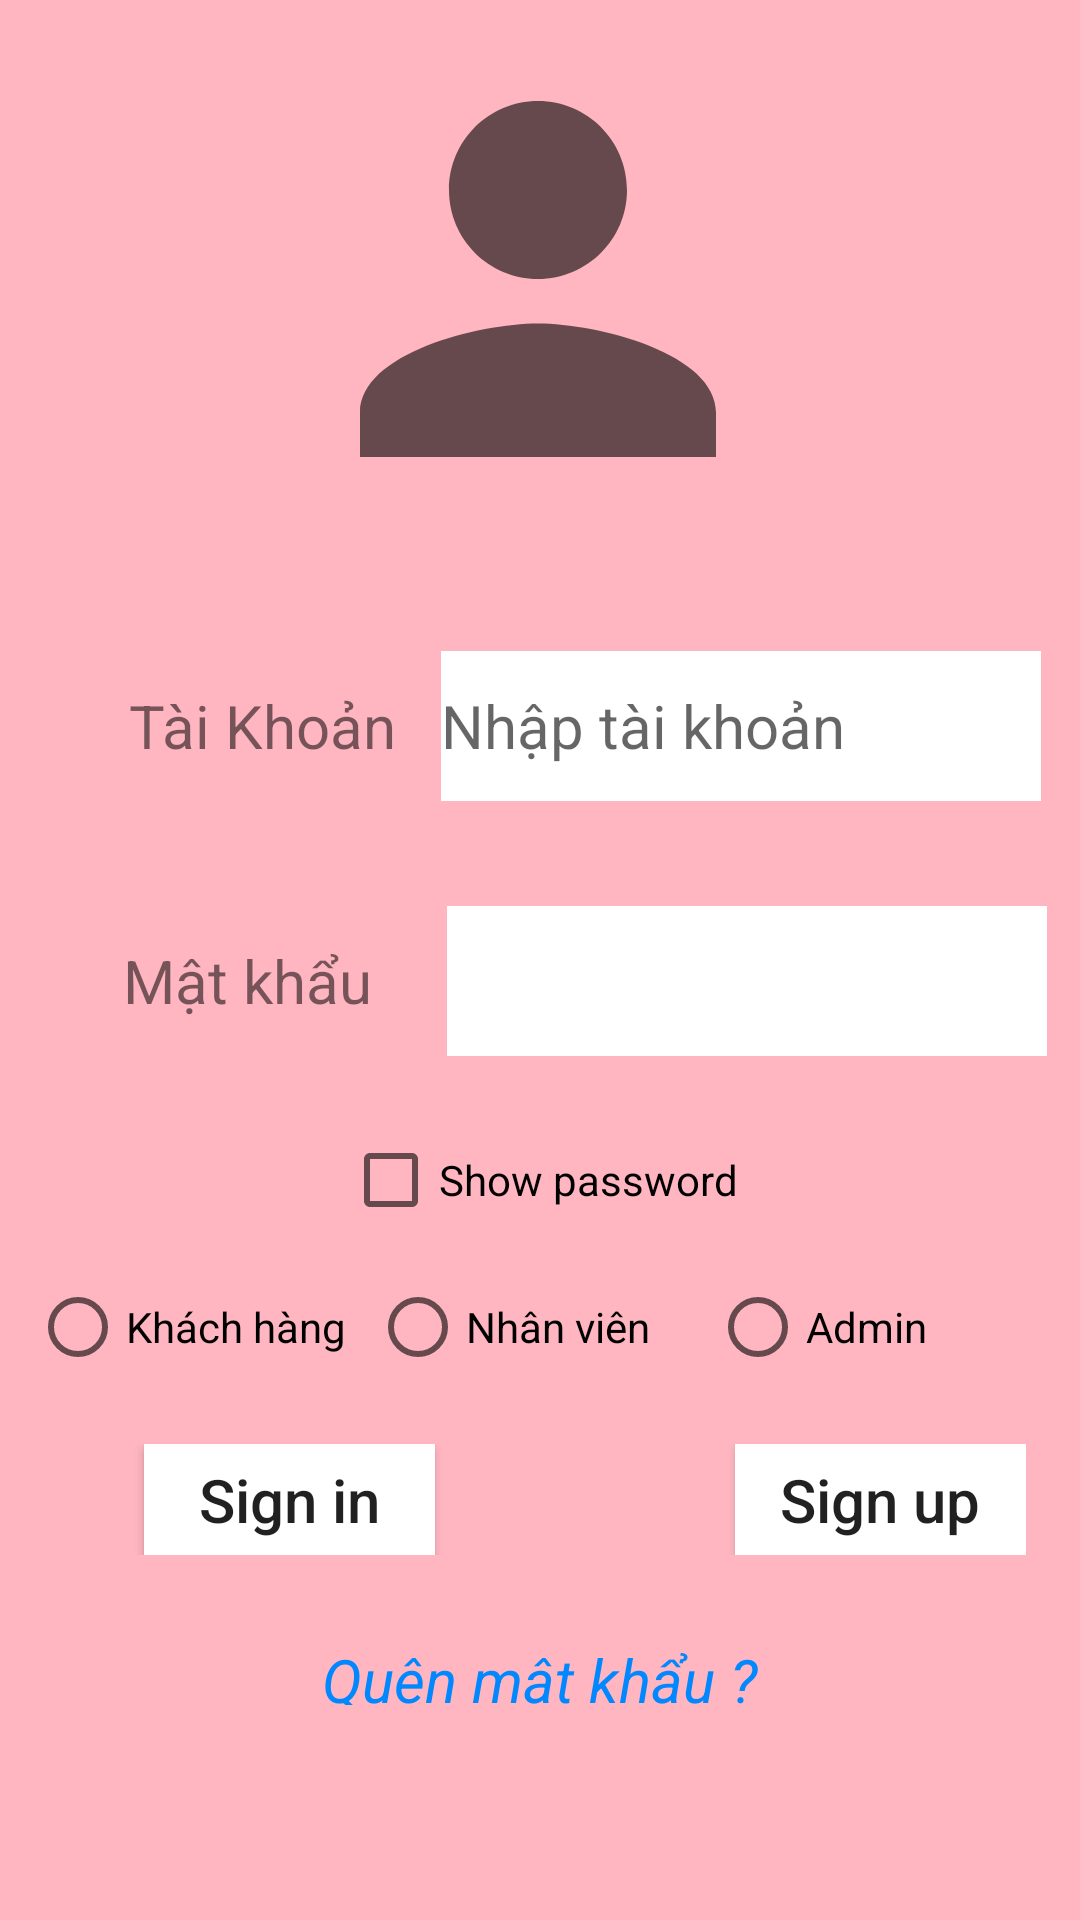

Named icons in this screenshot (1080 x 1920) and their bounding boxes, (x1, y1, x2, y2):
person: (360, 101, 716, 457)
